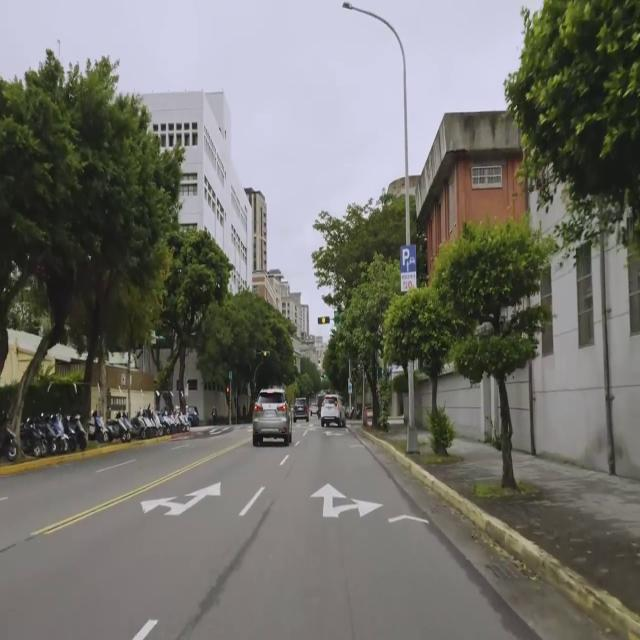yellow light: (318, 316, 330, 324), (261, 350, 270, 357)
